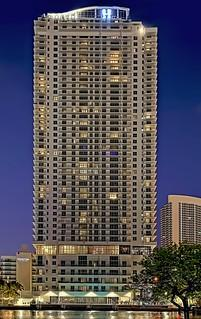building: (30, 4, 162, 307)
